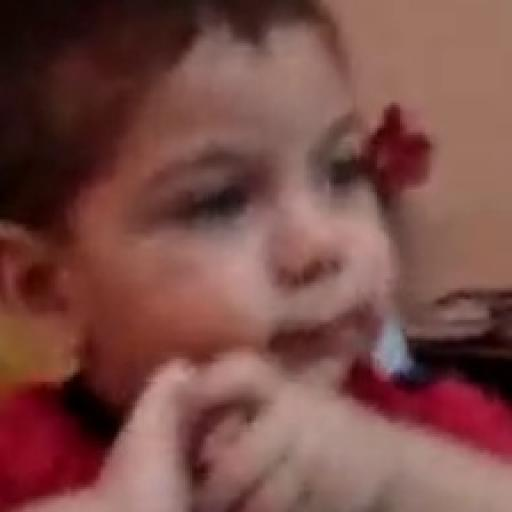Autism: (27, 25, 417, 498)
